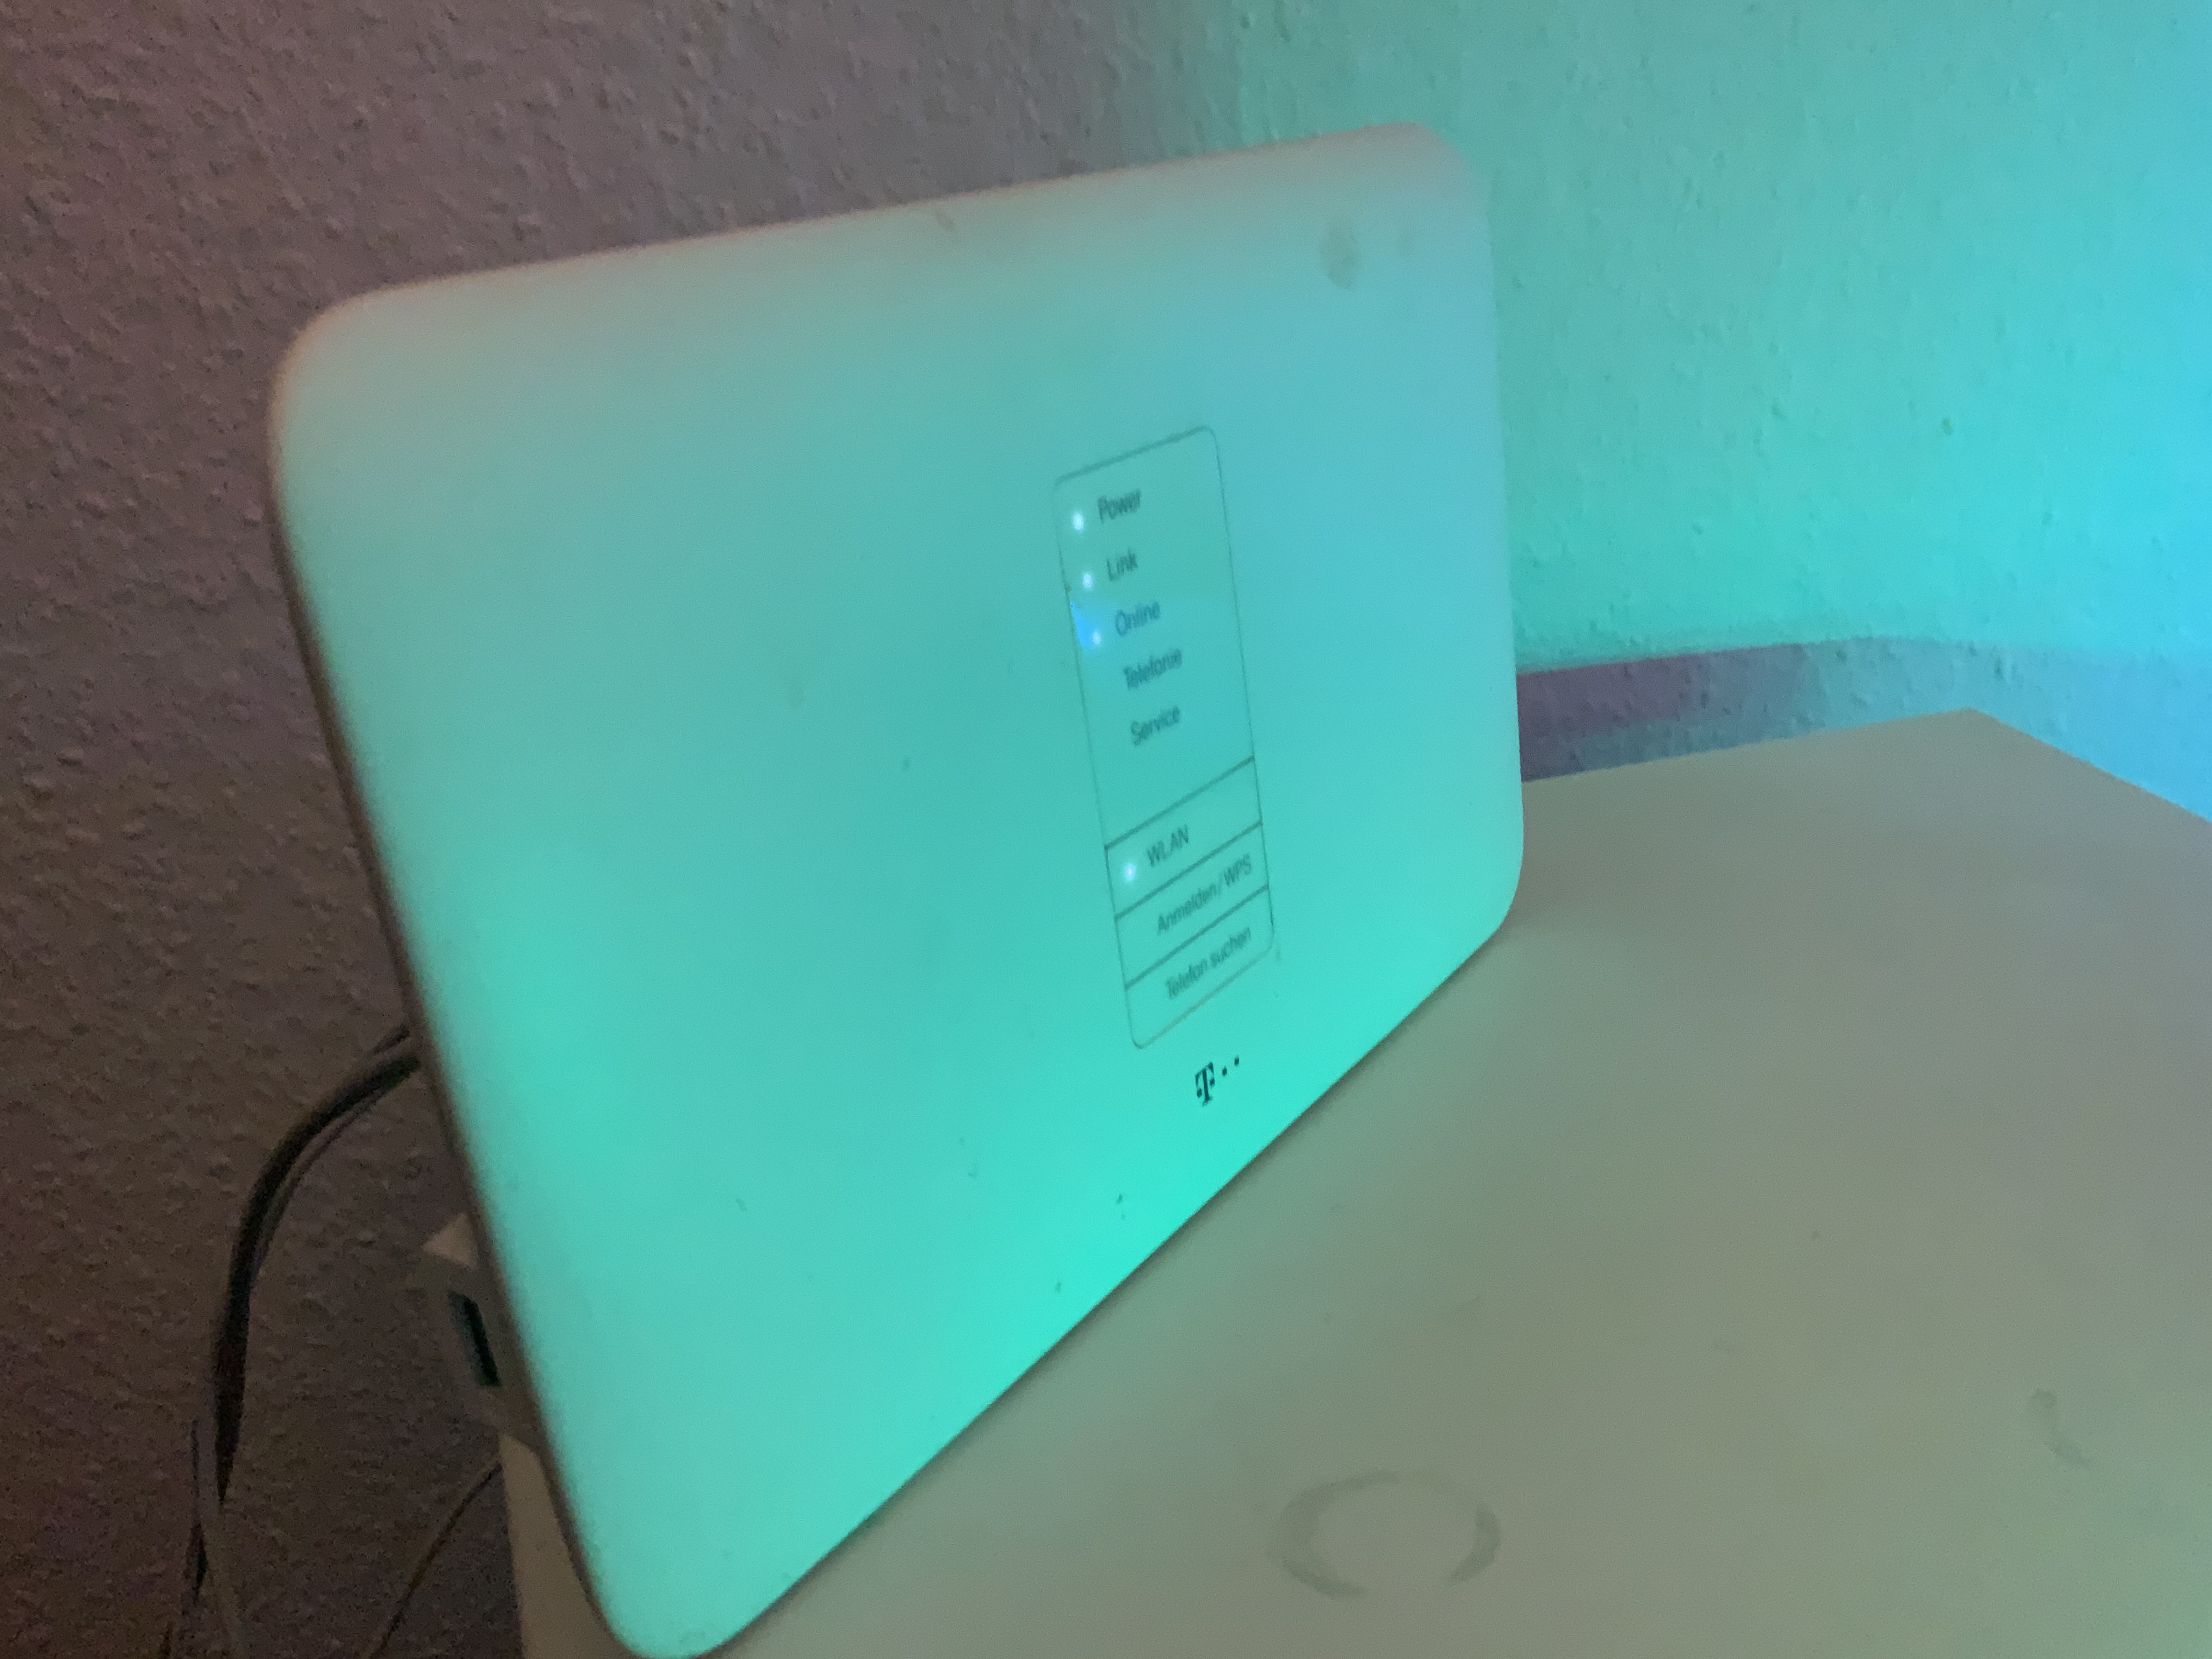router: (263, 120, 1541, 1659)
